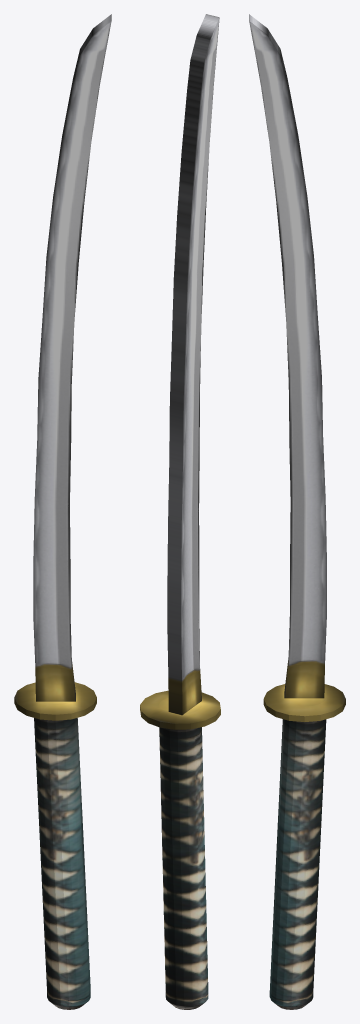
Rendered from Katana2.fbx.
3 renders of one model, left to right at view 1: azimuth 90°, elevation 25°; view 2: azimuth 150°, elevation 25°; view 3: azimuth 270°, elevation 25°, orthographic.
Visible parts, largest first — view 1: Cylinder, Cylinder.001; view 2: Cylinder, Cylinder.001; view 3: Cylinder, Cylinder.001.
Boxes of the visible parts, bbox=[...] form: Cylinder: bbox=[33, 14, 111, 1009]; Cylinder.001: bbox=[14, 682, 96, 720]; Cylinder: bbox=[159, 14, 219, 1009]; Cylinder.001: bbox=[140, 690, 220, 729]; Cylinder: bbox=[249, 14, 326, 1009]; Cylinder.001: bbox=[263, 684, 345, 721].
Bounding box in the file's own units: 124 × 1633 × 146.
